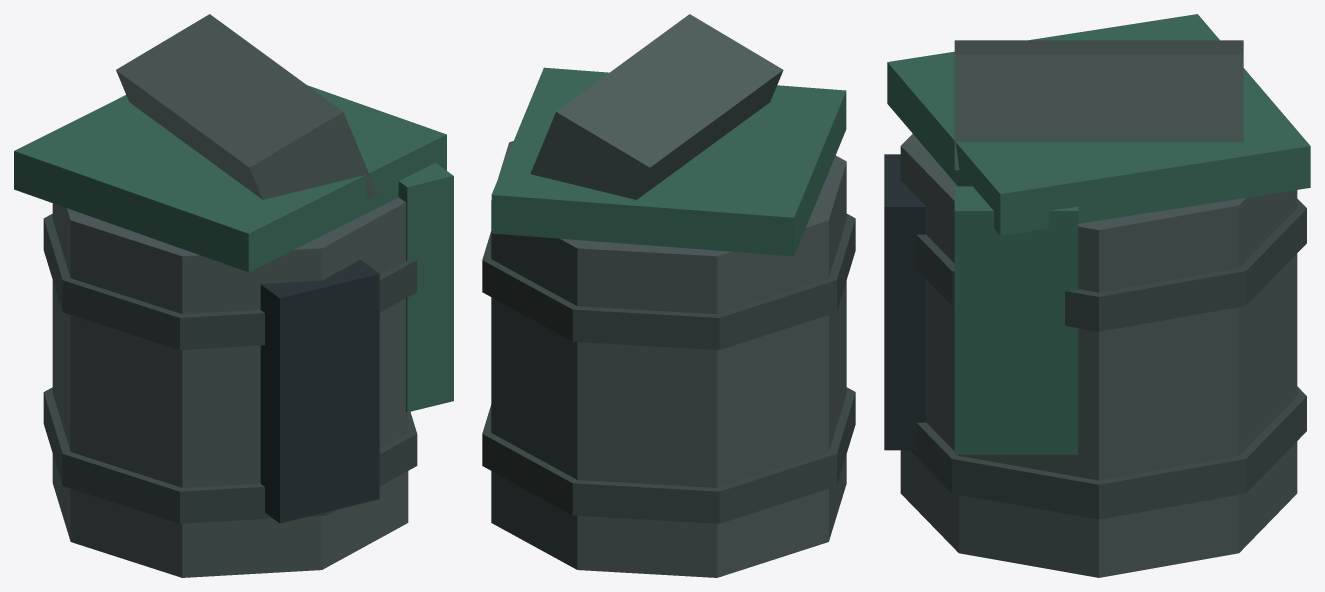
Rendered from env_r14_rotten_barrel.glb.
The picture shows the model from 3 angles, left to right: view 1: azimuth 30°, elevation 25°; view 2: azimuth 150°, elevation 25°; view 3: azimuth 270°, elevation 25°; orthographic projection. The views are drawn at different scales.
Parts seen in each view (by area): view 1: env_r14_rotten_barrel; view 2: env_r14_rotten_barrel; view 3: env_r14_rotten_barrel.
Boxes of the visible parts, <box> form: env_r14_rotten_barrel: <box>14,14,453,577</box>; env_r14_rotten_barrel: <box>482,14,855,577</box>; env_r14_rotten_barrel: <box>884,14,1310,577</box>.
Bounding box in the file's own units: 1 × 1.2 × 1.
1 material, 1 textured.
